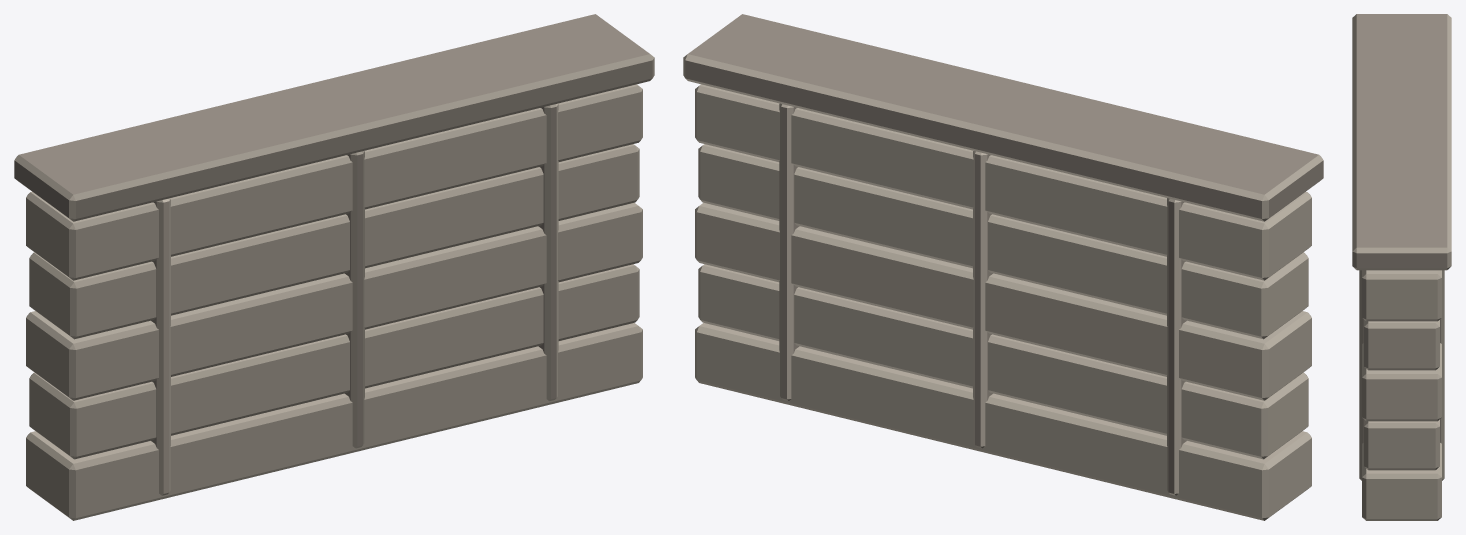
Rendered from SM_Kit_muro.fbx.
The picture shows the model from 3 angles, left to right: view 1: azimuth 30°, elevation 25°; view 2: azimuth 150°, elevation 25°; view 3: azimuth 270°, elevation 25°; orthographic projection. The views are drawn at different scales.
Visible parts, largest first — view 1: SM_Kit_muro; view 2: SM_Kit_muro; view 3: SM_Kit_muro.
Part boxes in pixels (x1=…): SM_Kit_muro: x1=14, y1=14, x2=654, y2=520; SM_Kit_muro: x1=683, y1=14, x2=1323, y2=520; SM_Kit_muro: x1=1352, y1=14, x2=1451, y2=520.
Size of what is drawn, in the model's own units: 408 by 221 by 72.
